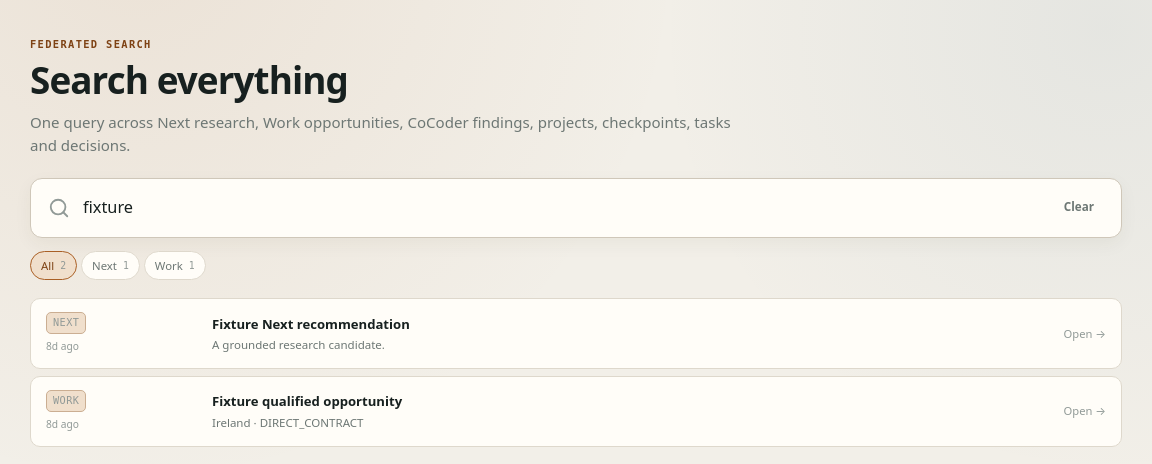
Test: SearchPage › filters results by source without merging records
Check: the text "Fixture Next recommendation" is shown, box [212,315,410,333]
Click the button "Work 1" at [175, 265], box [144,250,206,280]
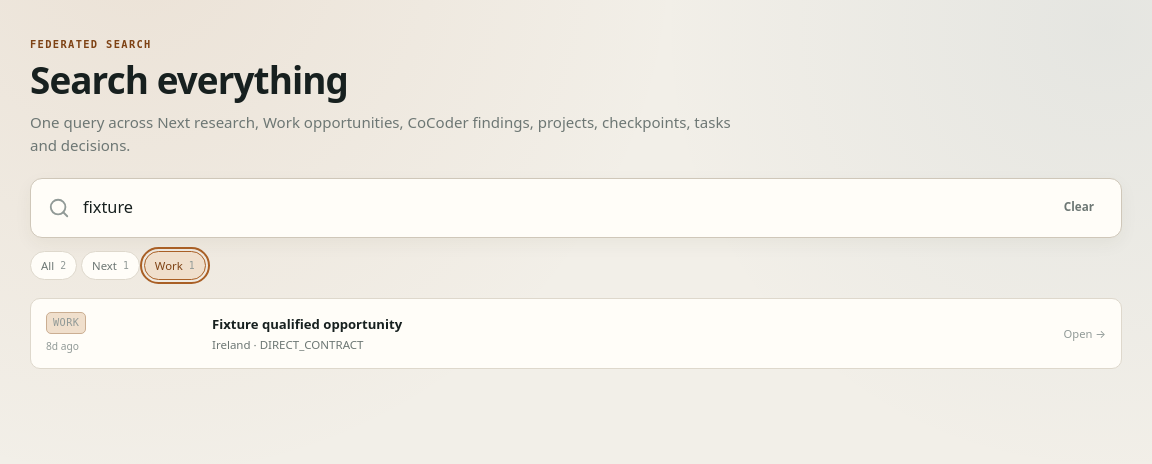
Check: the text "Fixture qualified opportunity" is shown, box [212,315,402,333]
Check: the link "Fixture Next recommendation" is gone
